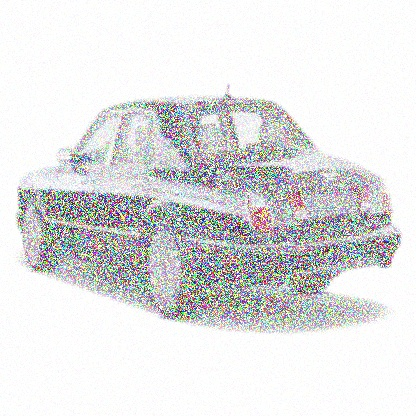Vehicle: (16, 86, 404, 318)
